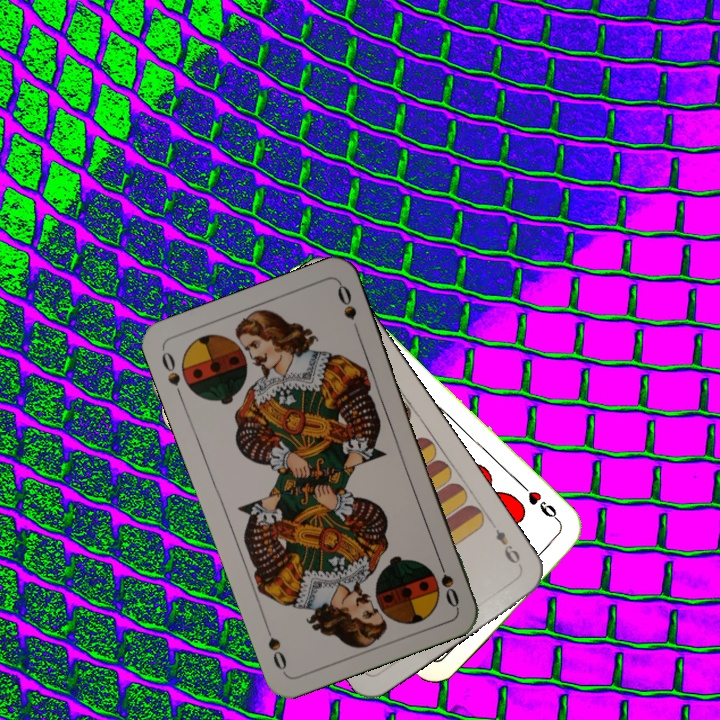E9: (491, 525, 525, 570)
H9: (518, 481, 565, 528)
SO: (433, 553, 462, 610), (157, 345, 186, 402)
